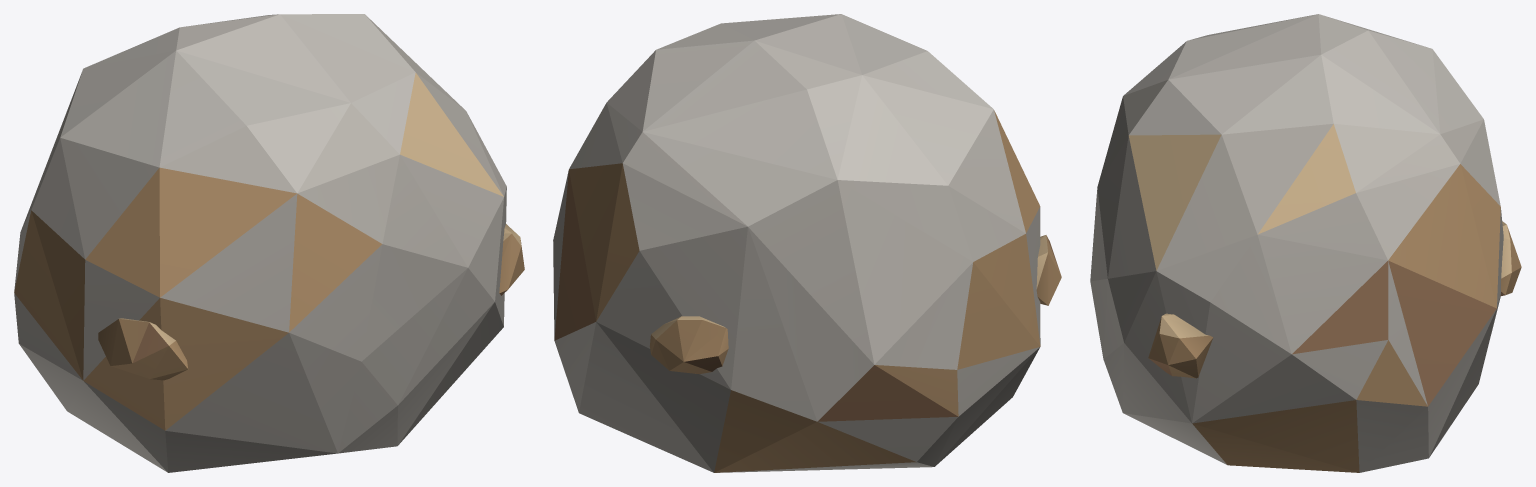
The model's file is quarry_rock_a_low.glb.
3 views of the same model, side by side, from view 1: azimuth 30°, elevation 25°; view 2: azimuth 150°, elevation 25°; view 3: azimuth 270°, elevation 25° (orthographic). The views are drawn at different scales.
Bounding box in the file's own units: 1.61 × 1.31 × 1.45.
